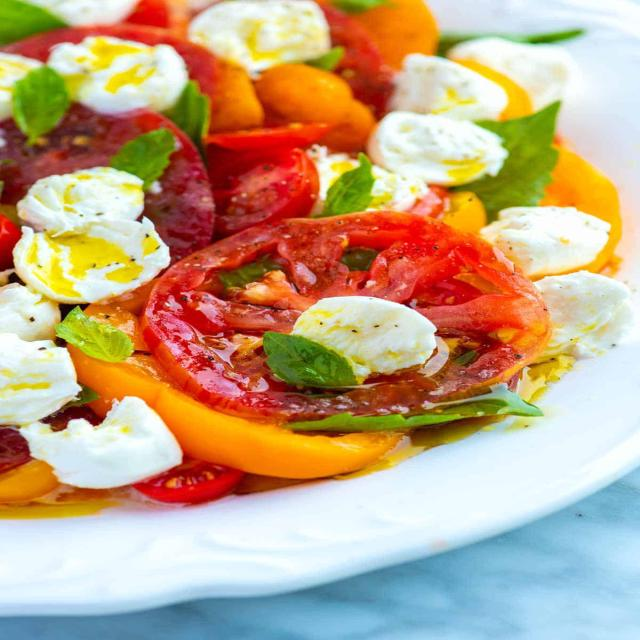Tomato: (143, 204, 544, 422)
